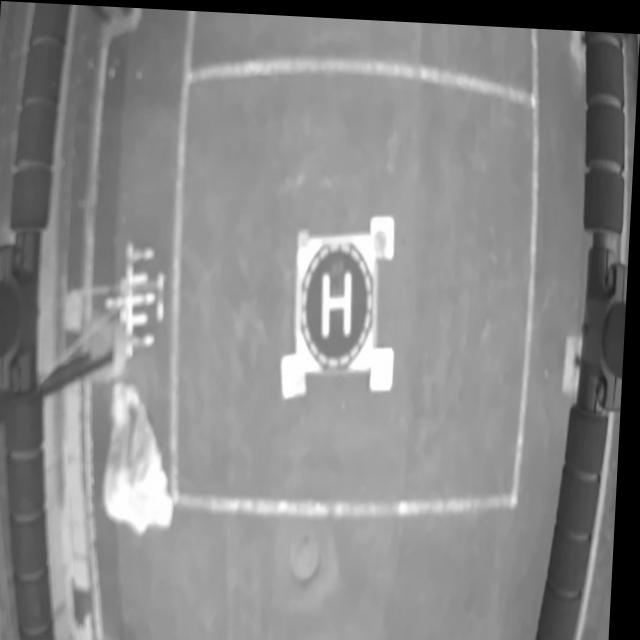Helipad: (323, 265, 354, 335)
